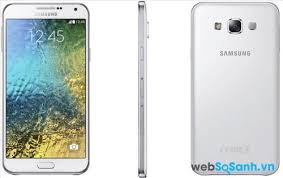samsung: (191, 1, 279, 176), (2, 1, 90, 175)
